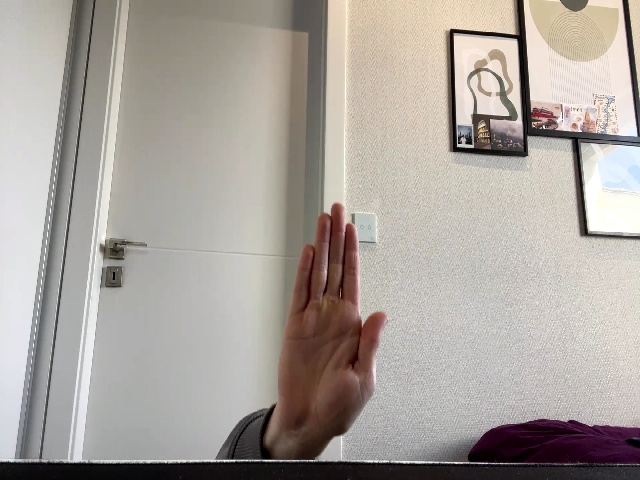B: (276, 202, 386, 436)
